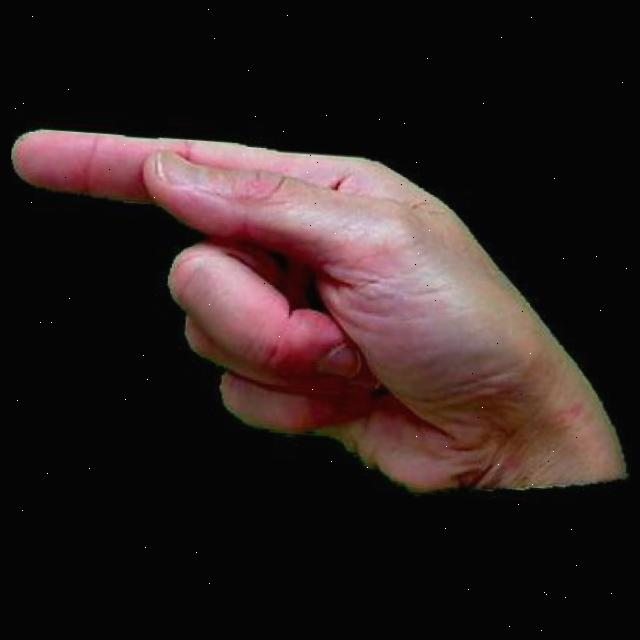g: (0, 103, 640, 518)
